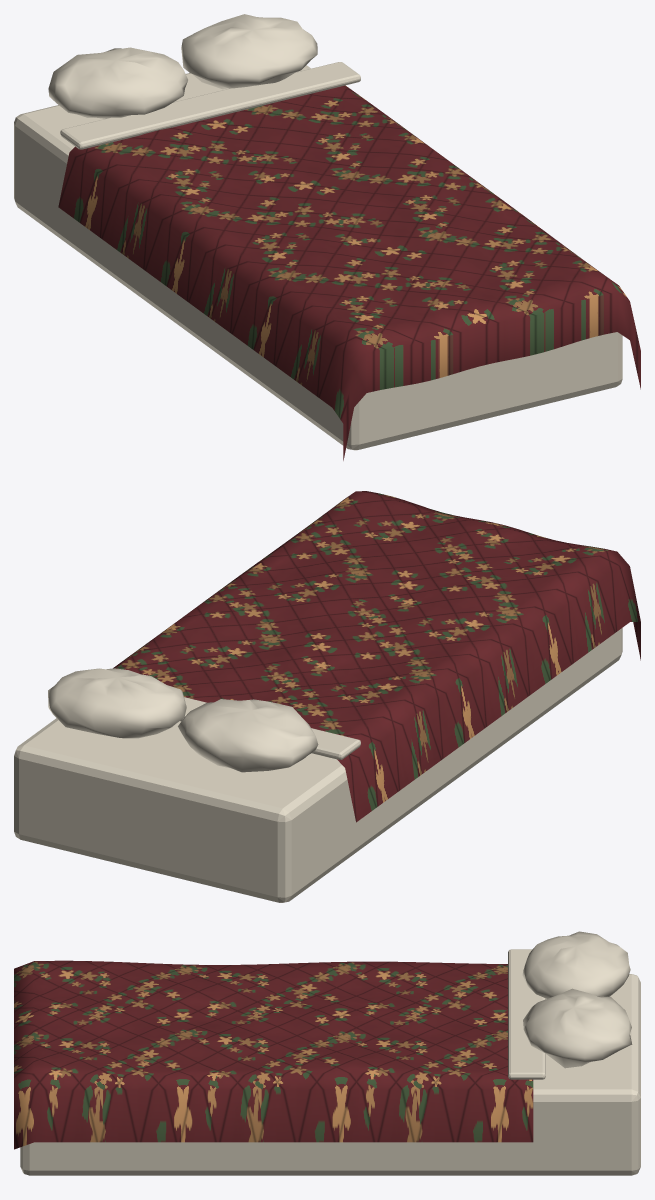
The model's file is bed_bedding_rose.glb.
3 renders of one model, top to bottom at view 1: azimuth 30°, elevation 25°; view 2: azimuth 150°, elevation 25°; view 3: azimuth 270°, elevation 25°, orthographic. The views are drawn at different scales.
Visible parts, largest first — view 1: bed_bedding_rose; view 2: bed_bedding_rose; view 3: bed_bedding_rose.
Boxes of the visible parts, x1,y1,x2,y2 form: bed_bedding_rose: (14, 14, 640, 460); bed_bedding_rose: (14, 491, 640, 902); bed_bedding_rose: (14, 931, 640, 1175).
Size of the model in its own units: 0.99 by 0.5043 by 1.98.
2 materials, 1 textured.
